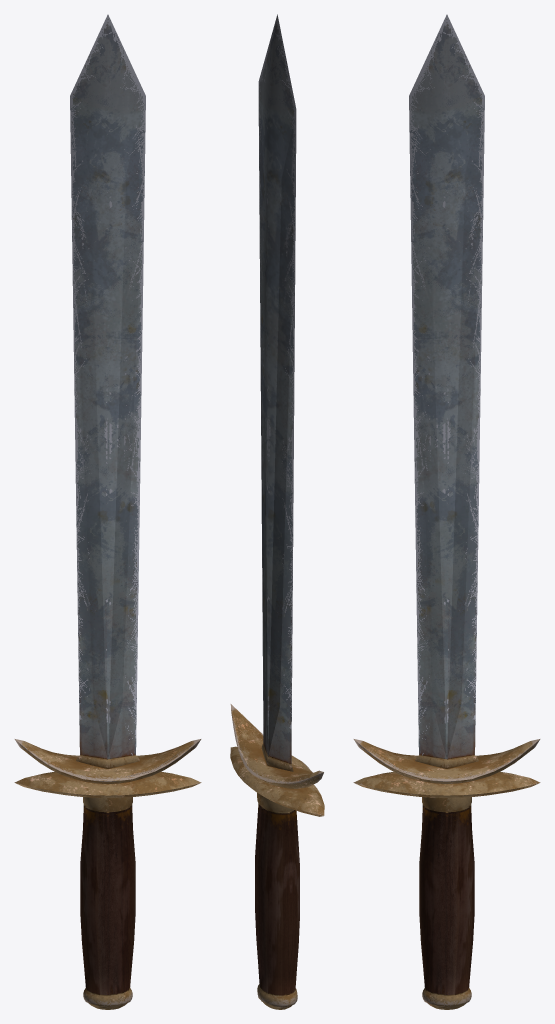
Rendered from jingtiejian.FBX.
The picture shows the model from 3 angles, left to right: view 1: azimuth 90°, elevation 25°; view 2: azimuth 210°, elevation 25°; view 3: azimuth 270°, elevation 25°; orthographic projection.
Visible parts, largest first — view 1: jingtiejian, jingtiejian_LOD; view 2: jingtiejian, jingtiejian_LOD; view 3: jingtiejian, jingtiejian_LOD.
Part boxes in pixels (x1,y1,x2,y2): jingtiejian: (14,14,201,1009); jingtiejian_LOD: (29,97,197,1007); jingtiejian: (230,14,324,1009); jingtiejian_LOD: (231,88,312,1008); jingtiejian: (353,14,540,1009); jingtiejian_LOD: (357,97,525,1007).
Bounding box in the file's own units: 6 × 108 × 18.51.
1 material, 1 textured.
